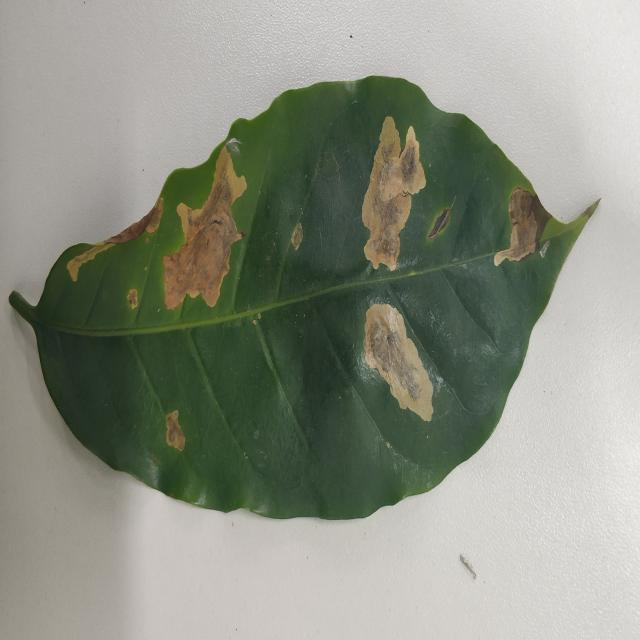Plaga-Minador: (13, 77, 601, 524)
